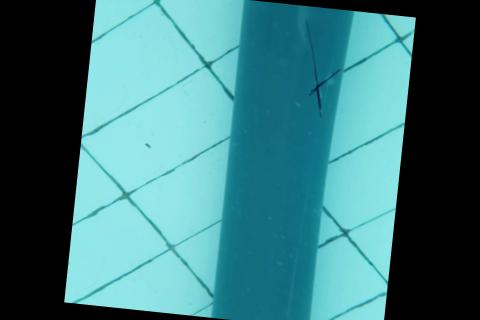keretakan: (293, 18, 345, 120)
